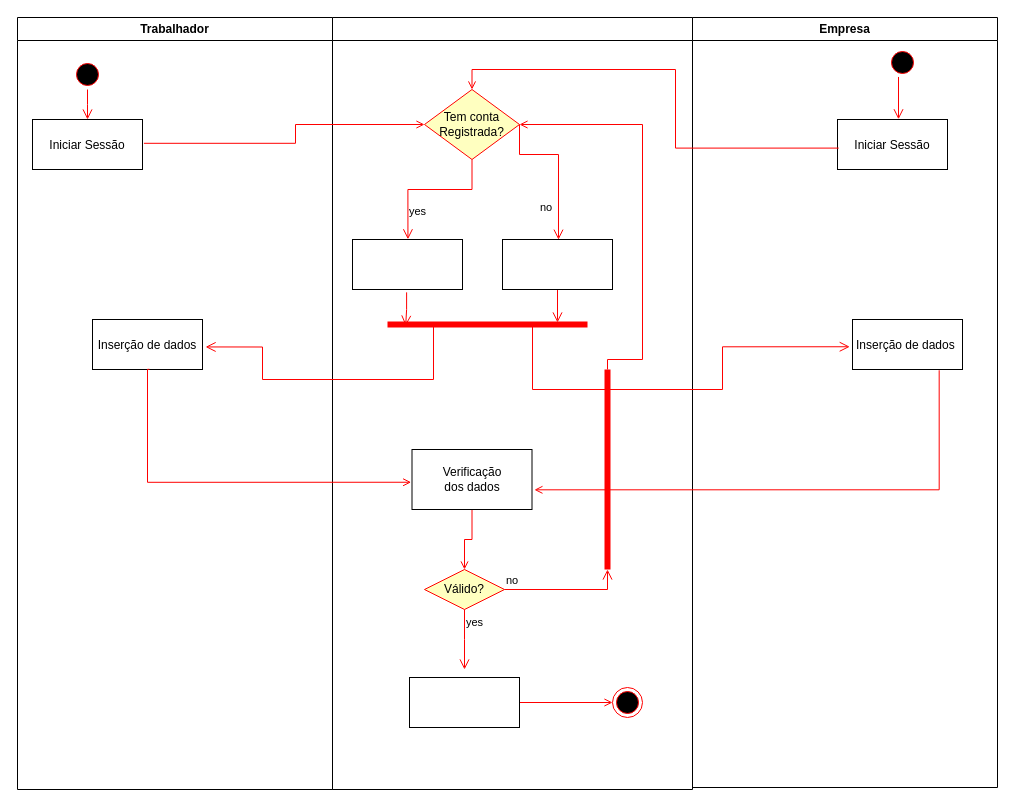
Some shapes in this 1015 by 807 pixel diagram are drawn without their labels. Each missing label, with the box of its shape:
Direcionar para a Aplicação: (408, 676, 520, 728)
Mostrar formulário de login de conta: (352, 238, 462, 290)
Mostrar formulário de registo de conta: (502, 238, 612, 290)
Sistema: (332, 16, 692, 790)
